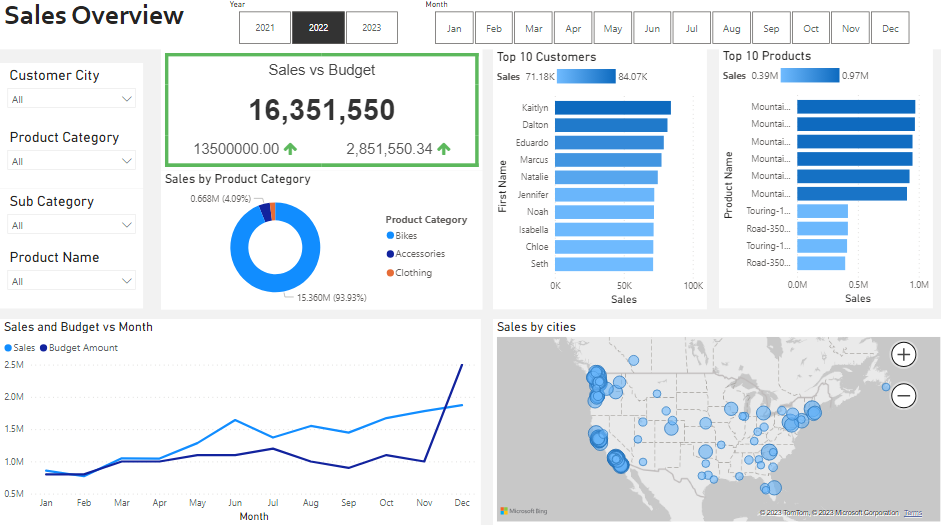

What the dashboard file says about the page in this screenshot:
{"tool":"powerbi","page":{"name":"Sales Overview","canvas":[1280,720],"ordinal":0},"visuals":[{"type":"textbox","box":[0,0,1280,74.8],"z":0},{"type":"slicer","fields":{"Values":["DimCustomer.Customer City"]},"box":[0,93.1,194.5,84.8],"z":1000},{"type":"slicer","fields":{"Values":["DimProduct.Sub Category"]},"box":[0,264.3,194.5,84.8],"z":2000},{"type":"slicer","fields":{"Values":["DimProduct.Product Category"]},"box":[0,177.9,194.5,86.4],"z":3000},{"type":"slicer","fields":{"Values":["DimProduct.Product Name"]},"box":[0,340.8,194.5,86.4],"z":4000},{"type":"slicer","fields":{"Values":["DimCalendar.Year"]},"box":[298.6,3.4,265.1,72.1],"z":5000},{"type":"slicer","fields":{"Values":["DimCalendar.MonthShort"]},"box":[563.7,3.4,692.8,72.1],"z":6000},{"type":"BBED0A4D4D8D44CE93CF2DAFADEE466C","fields":{"actual":["KeyMeasures.Sales"],"target2":["KeyMeasures.Sales - Budget Amount"],"target1":["KeyMeasures.Budget Amount"]},"box":[217.8,74.8,435.5,164.6],"z":7000},{"type":"donutChart","fields":{"Category":["DimProduct.Product Category"],"Y":["KeyMeasures.Sales"]},"box":[217.8,239.4,435.5,187.8],"z":8000},{"type":"lineChart","title":"Sales and Budget vs Month","fields":{"Category":["DimCalendar.MonthShort"],"Y":["KeyMeasures.Sales","KeyMeasures.Budget Amount"]},"box":[0,440,651.7,280],"z":9000},{"type":"map","title":"Sales by cities","fields":{"Category":["DimCustomer.Customer City"],"Size":["KeyMeasures.Sales"]},"box":[668.3,440,611.7,280],"z":10000},{"type":"barChart","title":"Top 10 Customers","fields":{"Category":["DimCustomer.First Name"],"Y":["KeyMeasures.Sales"]},"box":[668.3,75,290,353.3],"z":11000},{"type":"barChart","title":"Top 10 Products","fields":{"Category":["DimProduct.Product Name"],"Y":["KeyMeasures.Sales"]},"box":[975,73.3,290,353.3],"z":12000}]}

Visuals, with their boxes in screenshot pixels (x1, y1, x2, y2), scaled from the page's 1280x720 canvas onto the 941x525 screenshot:
textbox: bbox(0, 0, 940, 55)
slicer - DimCustomer.Customer City: bbox(0, 68, 143, 130)
slicer - DimProduct.Sub Category: bbox(0, 193, 143, 255)
slicer - DimProduct.Product Category: bbox(0, 130, 143, 193)
slicer - DimProduct.Product Name: bbox(0, 248, 143, 312)
slicer - DimCalendar.Year: bbox(220, 2, 414, 55)
slicer - DimCalendar.MonthShort: bbox(414, 2, 924, 55)
BBED0A4D4D8D44CE93CF2DAFADEE466C - KeyMeasures.Sales x KeyMeasures.Sales - Budget Amount: bbox(160, 55, 480, 175)
donutChart - DimProduct.Product Category x KeyMeasures.Sales: bbox(160, 175, 480, 312)
"Sales and Budget vs Month" lineChart: bbox(0, 321, 479, 524)
"Sales by cities" map: bbox(491, 321, 940, 524)
"Top 10 Customers" barChart: bbox(491, 55, 705, 312)
"Top 10 Products" barChart: bbox(717, 53, 930, 311)
